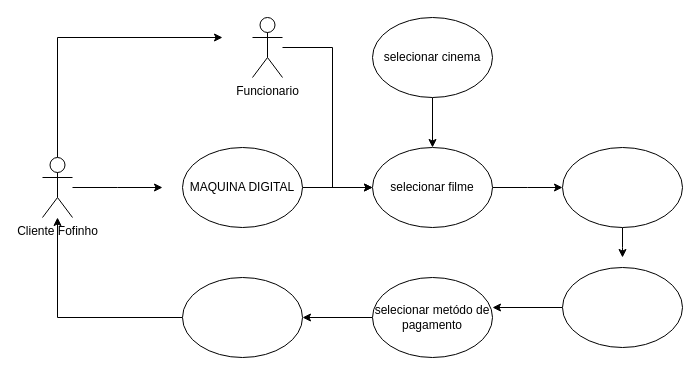
Some shapes in this 700 by 375 pixel diagram are drawn without their labels. Each missing label, with the centre of its shape:
ingresso/recibo: pixel 242 317
selecionar sessão: pixel 622 187
selecionar tipo de ingresso: pixel 622 307
